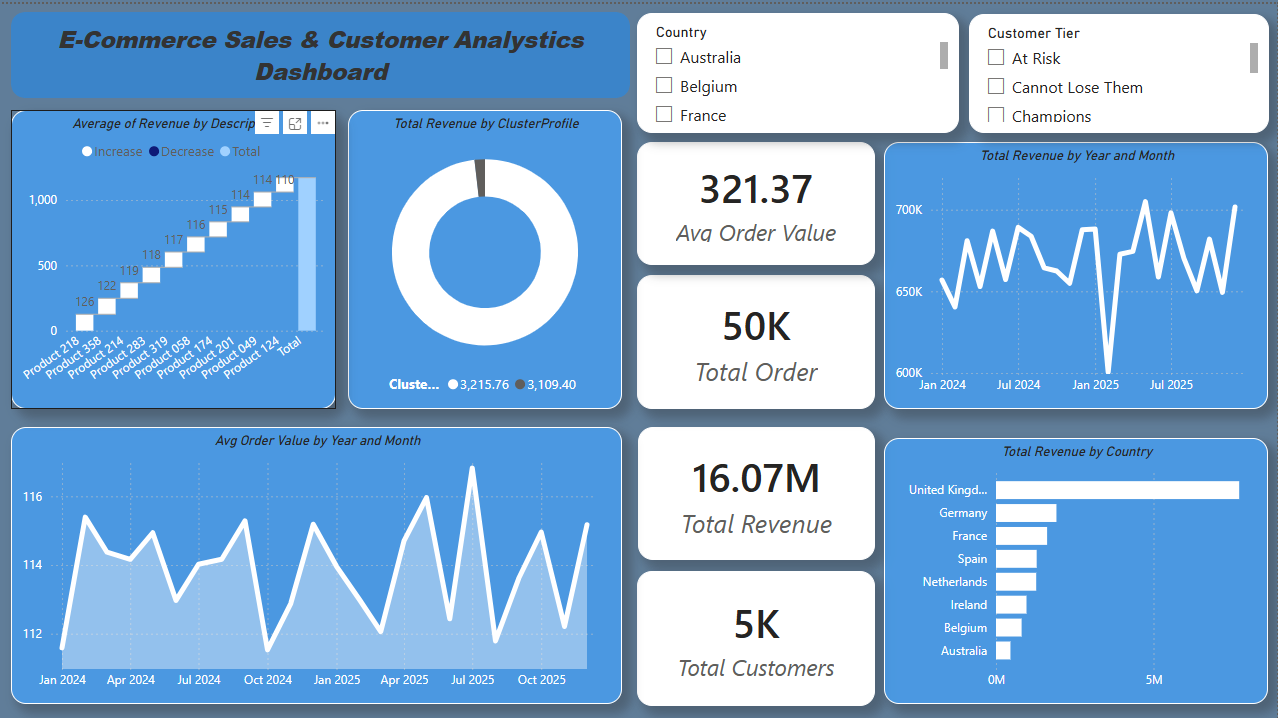

What the dashboard file says about the page in this screenshot:
{"tool":"powerbi","page":{"name":"Ecommerce sales Dashboard","canvas":[1280,720],"ordinal":0},"visuals":[{"type":"cardVisual","fields":{"Data":["cleaned_transactions (2).Total Revenue"]},"box":[641,423.1,237.3,133.3],"z":0},{"type":"cardVisual","fields":{"Data":["cleaned_transactions (2).Total Order"]},"box":[640,271.4,238.3,133.3],"z":1000},{"type":"cardVisual","fields":{"Data":["cleaned_transactions (2).Total Customers"]},"box":[640,567.1,238.3,135.2],"z":2000},{"type":"cardVisual","fields":{"Data":["cleaned_transactions (2).Avg Order Value"]},"box":[640,138.1,238.3,122.6],"z":3000},{"type":"lineChart","fields":{"Category":["cleaned_transactions (2).InvoiceDate.Variation.Date Hierarchy.Year","cleaned_transactions (2).InvoiceDate.Variation.Date Hierarchy.Month"],"Y":["cleaned_transactions (2).Total Revenue"]},"box":[887.1,138.1,384.2,266.5],"z":4000},{"type":"barChart","fields":{"Category":["cleaned_transactions (2).Country"],"Y":["cleaned_transactions (2).Total Revenue"]},"box":[887.1,433.8,384.2,266.5],"z":5000},{"type":"donutChart","fields":{"Category":["customer_segments.ClusterProfile"],"Y":["cleaned_transactions (2).Total Revenue"]},"box":[351,106,274,299],"z":6000},{"type":"slicer","fields":{"Values":["cleaned_transactions (2).Country"]},"box":[640,9,322,120],"z":7000},{"type":"slicer","fields":{"Values":["customer_segments.RFM_Segment"]},"box":[972,10,300,119],"z":8000},{"type":"stackedAreaChart","fields":{"Category":["cleaned_transactions (2).InvoiceDate.Variation.Date Hierarchy.Year","cleaned_transactions (2).InvoiceDate.Variation.Date Hierarchy.Month"],"Y":["cleaned_transactions (2).Avg Order Value"]},"box":[13.6,423.1,611.8,277.2],"z":9000},{"type":"waterfallChart","fields":{"Y":["Avg(cleaned_transactions (2).Revenue)"],"Category":["cleaned_transactions (2).Description"]},"box":[14,106,325,299],"z":10000},{"type":"shape","box":[14,8,618.6,85.6],"z":11000}]}

Visuals, with their boxes in screenshot pixels (x1, y1, x2, y2), scaled from the page's 1280x720 canvas onto the 1278x718 screenshot:
cardVisual - cleaned_transactions (2).Total Revenue: Rect(640, 422, 877, 555)
cardVisual - cleaned_transactions (2).Total Order: Rect(639, 271, 877, 404)
cardVisual - cleaned_transactions (2).Total Customers: Rect(639, 566, 877, 700)
cardVisual - cleaned_transactions (2).Avg Order Value: Rect(639, 138, 877, 260)
lineChart - cleaned_transactions (2).InvoiceDate.Variation.Date Hierarchy.Year x cleaned_transactions (2).InvoiceDate.Variation.Date Hierarchy.Month: Rect(886, 138, 1269, 403)
barChart - cleaned_transactions (2).Country x cleaned_transactions (2).Total Revenue: Rect(886, 433, 1269, 698)
donutChart - customer_segments.ClusterProfile x cleaned_transactions (2).Total Revenue: Rect(350, 106, 624, 404)
slicer - cleaned_transactions (2).Country: Rect(639, 9, 960, 129)
slicer - customer_segments.RFM_Segment: Rect(970, 10, 1270, 129)
stackedAreaChart - cleaned_transactions (2).InvoiceDate.Variation.Date Hierarchy.Year x cleaned_transactions (2).InvoiceDate.Variation.Date Hierarchy.Month: Rect(14, 422, 624, 698)
waterfallChart - Avg(cleaned_transactions (2).Revenue) x cleaned_transactions (2).Description: Rect(14, 106, 338, 404)
shape: Rect(14, 8, 632, 93)
